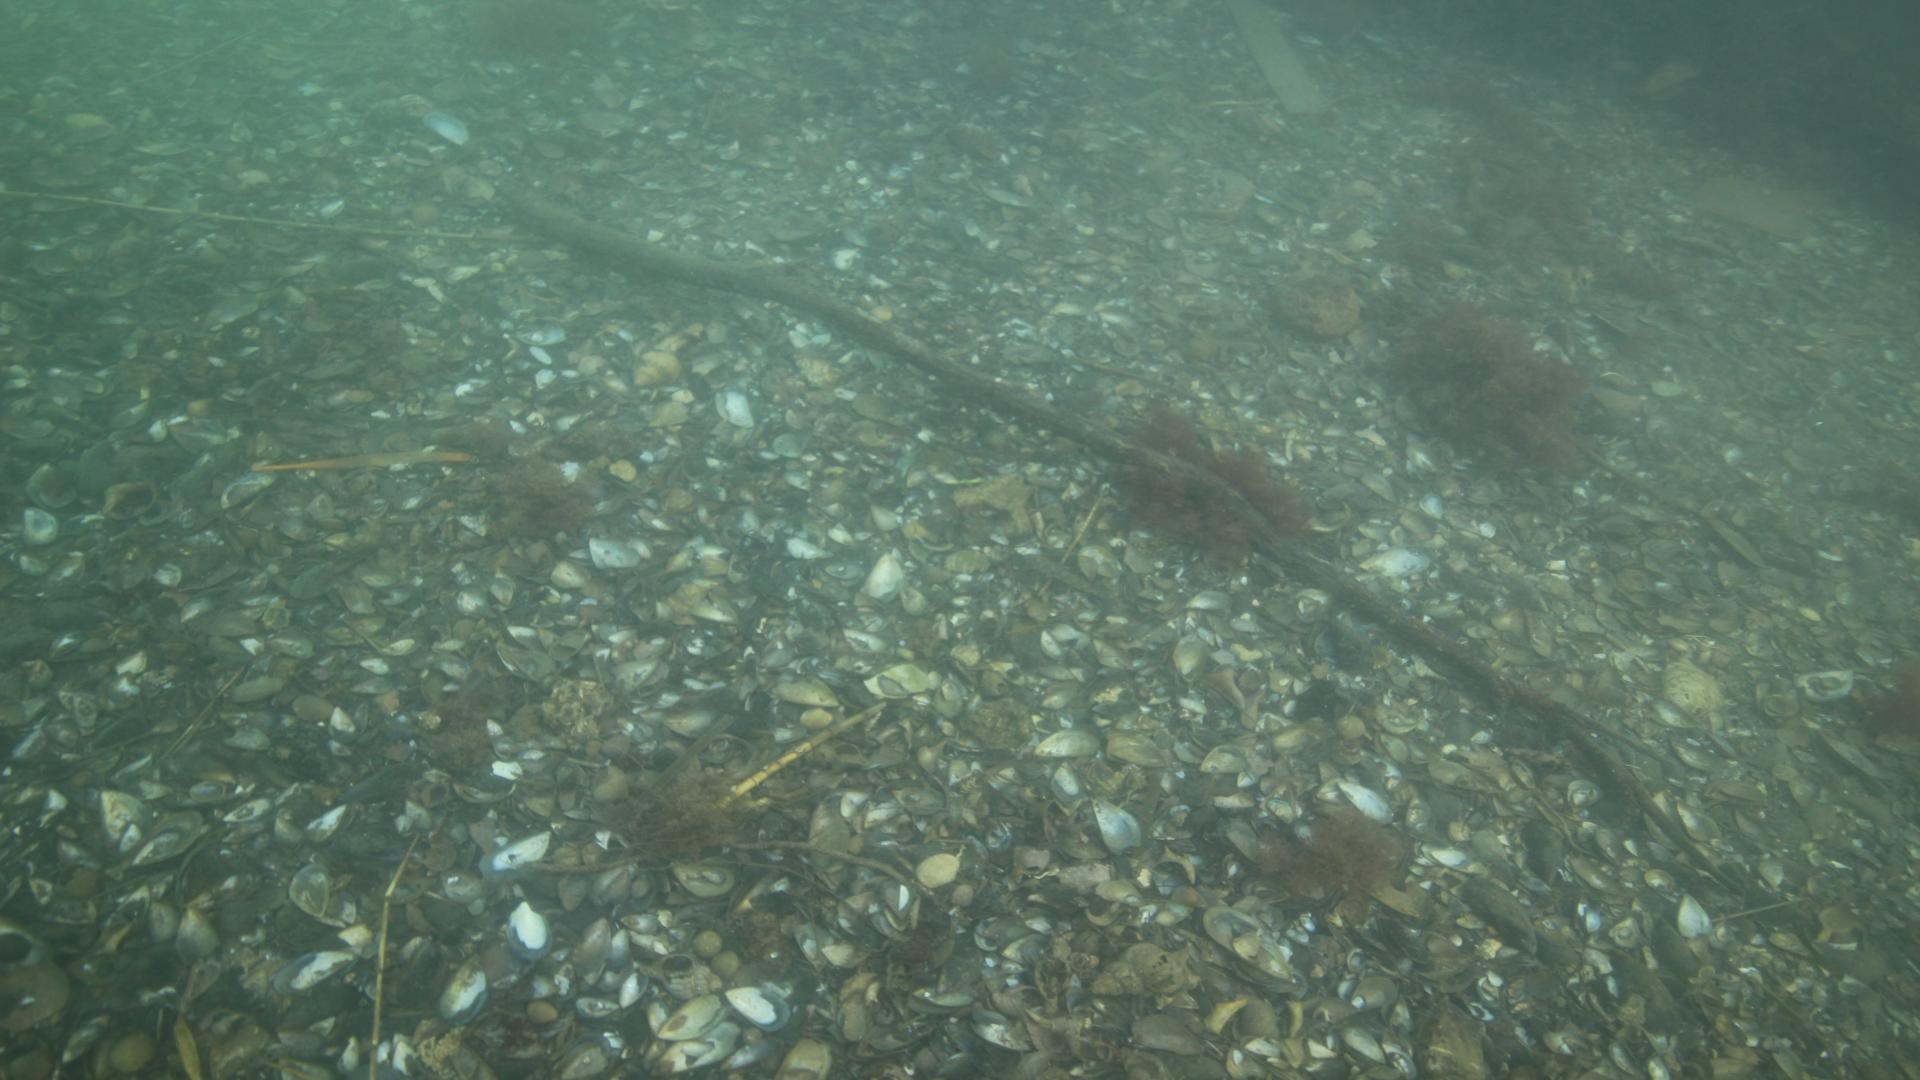wood: (513, 190, 1549, 709)
